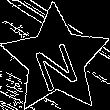N_N: (29, 29, 83, 90)
